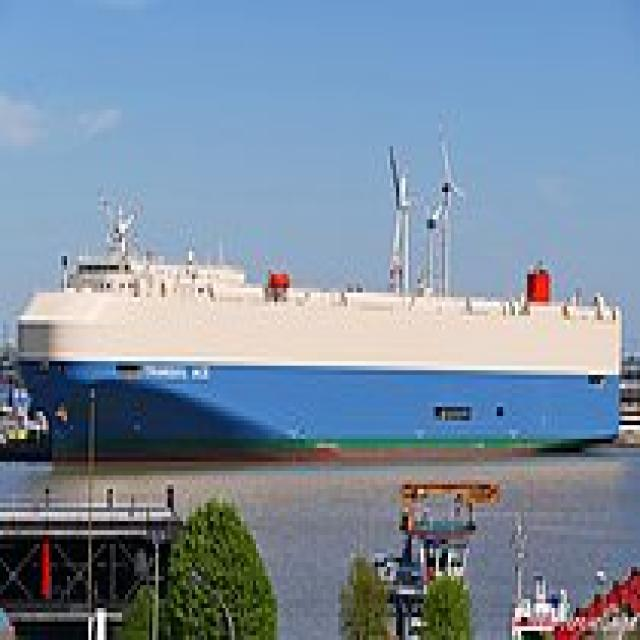Carrier: (12, 238, 622, 471)
